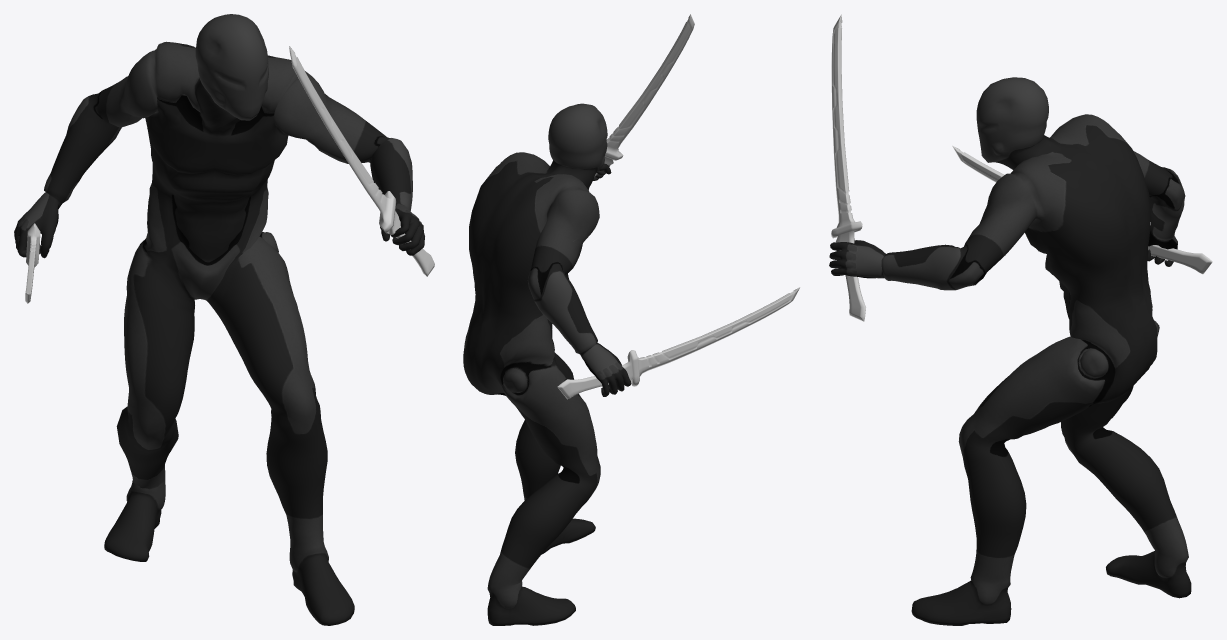
3 renders of one model, left to right at view 1: azimuth 30°, elevation 25°; view 2: azimuth 150°, elevation 25°; view 3: azimuth 270°, elevation 25°, orthographic. The views are drawn at different scales.
Parts seen in each view (by area): view 1: Cyborg_Ninja_Killer, Sword_l, Sword_l001; view 2: Cyborg_Ninja_Killer, Sword_l001, Sword_l; view 3: Cyborg_Ninja_Killer, Sword_l, Sword_l001.
Part boxes in pixels (x1,y1,x2,y2): Cyborg_Ninja_Killer: (14,14,424,625); Sword_l: (289,46,434,276); Sword_l001: (25,223,40,303); Cyborg_Ninja_Killer: (463,103,631,625); Sword_l001: (557,287,800,399); Sword_l: (594,14,694,177); Cyborg_Ninja_Killer: (829,77,1191,625); Sword_l: (831,14,865,321); Sword_l001: (952,145,1212,274).
Size of the model in its own units: 113 by 178 by 110.
